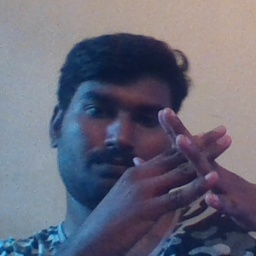W: (125, 88, 254, 235)
